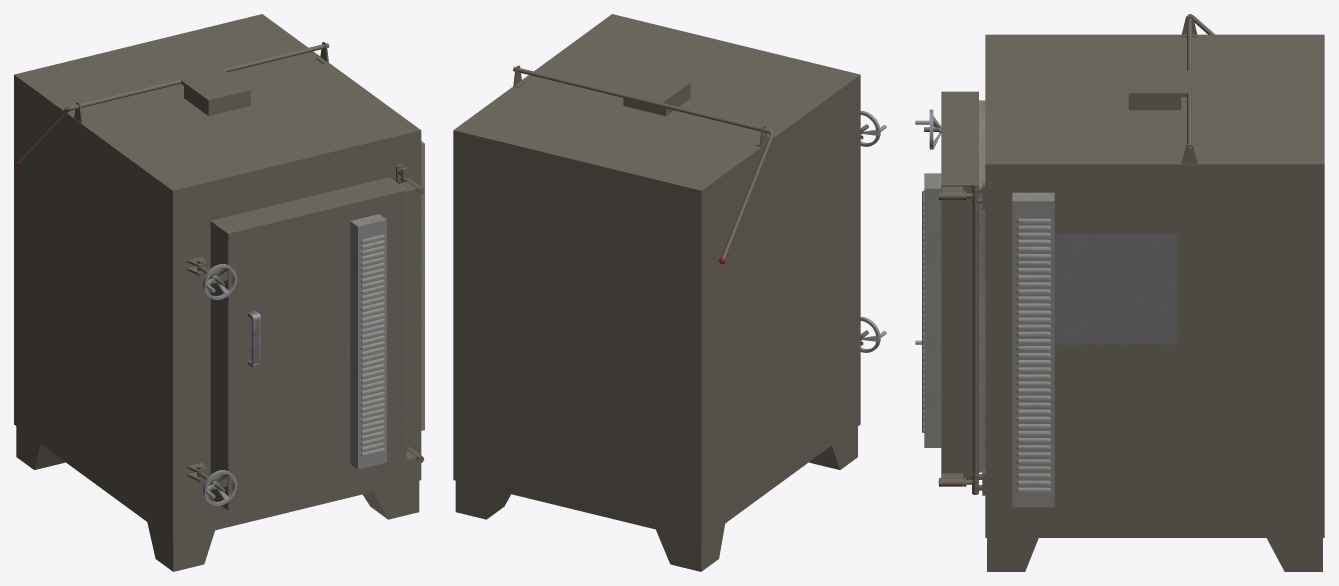
Rendered from YaoLu_Large.fbx.
The picture shows the model from 3 angles, left to right: view 1: azimuth 30°, elevation 25°; view 2: azimuth 150°, elevation 25°; view 3: azimuth 270°, elevation 25°; orthographic projection. The views are drawn at different scales.
Visible parts, largest first — view 1: YaoLu_ZhuTi_Large, YaoLu_LaMen_Large, YaoLu_TongQiKong_Large, YaoLU_XuanZhuanKaiGuan_Large_2, YaoLU_XuanZhuanKaiGuan_Large; view 2: YaoLu_ZhuTi_Large, YaoLu_TongQiKong_Large; view 3: YaoLu_ZhuTi_Large, YaoLu_LaMen_Large, YaoLu_TongQiKong_Large.
Boxes of the visible parts, x1,y1,x2,y2 form: YaoLu_ZhuTi_Large: (14,14,424,571); YaoLu_LaMen_Large: (210,177,424,510); YaoLu_TongQiKong_Large: (14,43,329,165); YaoLU_XuanZhuanKaiGuan_Large_2: (203,470,237,506); YaoLU_XuanZhuanKaiGuan_Large: (203,264,237,299); YaoLu_ZhuTi_Large: (453,14,860,571); YaoLu_TongQiKong_Large: (513,66,774,263); YaoLu_ZhuTi_Large: (972,16,1324,571); YaoLu_LaMen_Large: (922,91,978,486); YaoLu_TongQiKong_Large: (1128,14,1214,152).
Size of the model in its own units: 96.07 by 132 by 114.
Materials: 1 (1 with a texture image).
